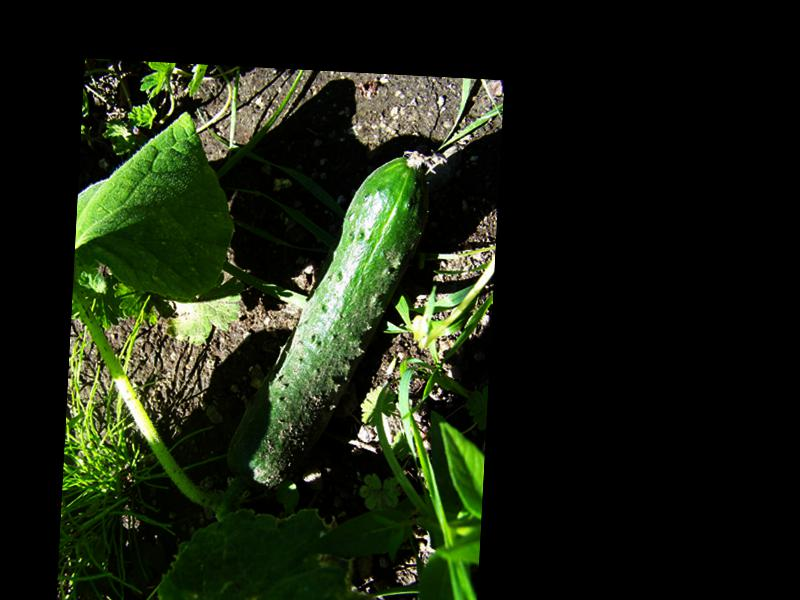Cucumber: (224, 143, 432, 501)
